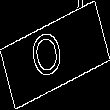O_S: (35, 23, 75, 87)
